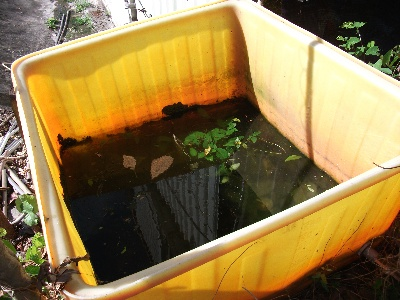box: (9, 1, 399, 300)
